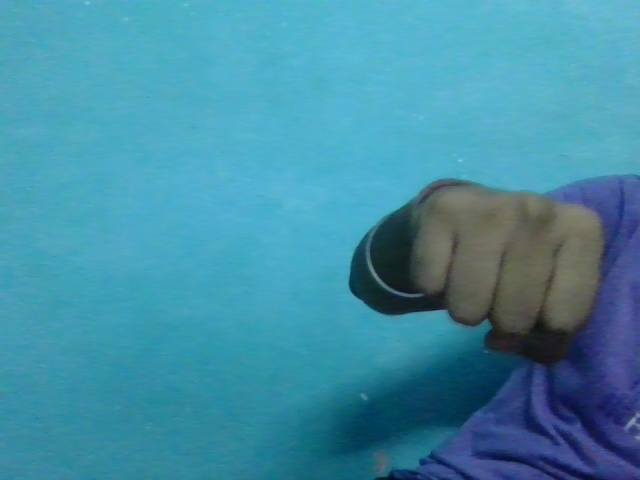yes: (393, 179, 609, 340)
